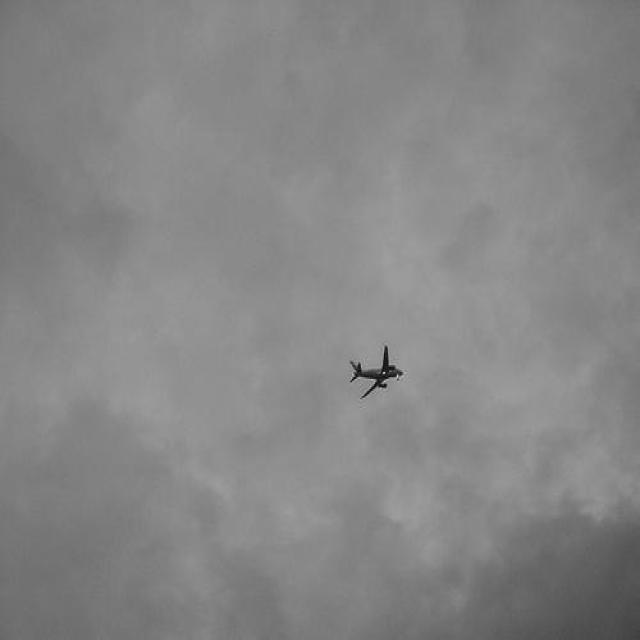aeroplane: (349, 346, 404, 399)
